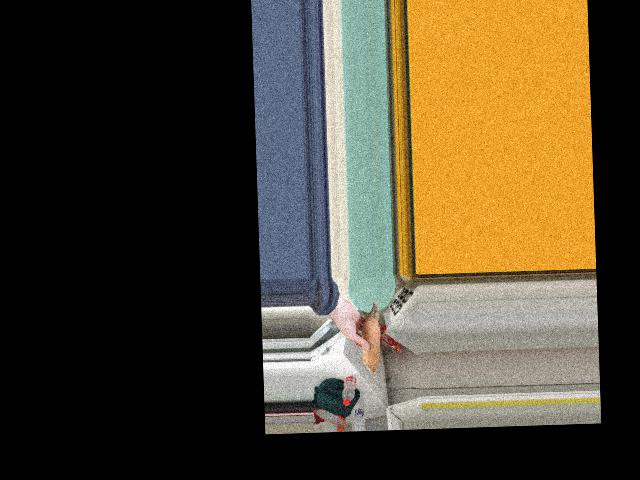sweet_potato: (355, 303, 380, 364)
